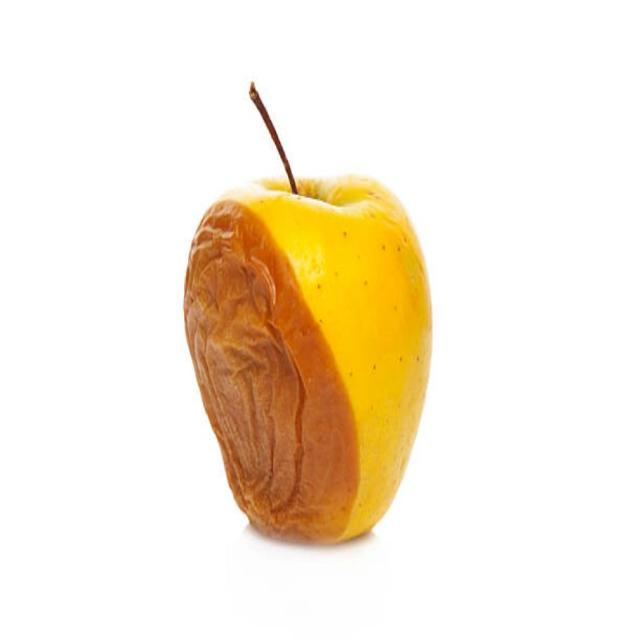Rotten Apple: (178, 149, 464, 571)
